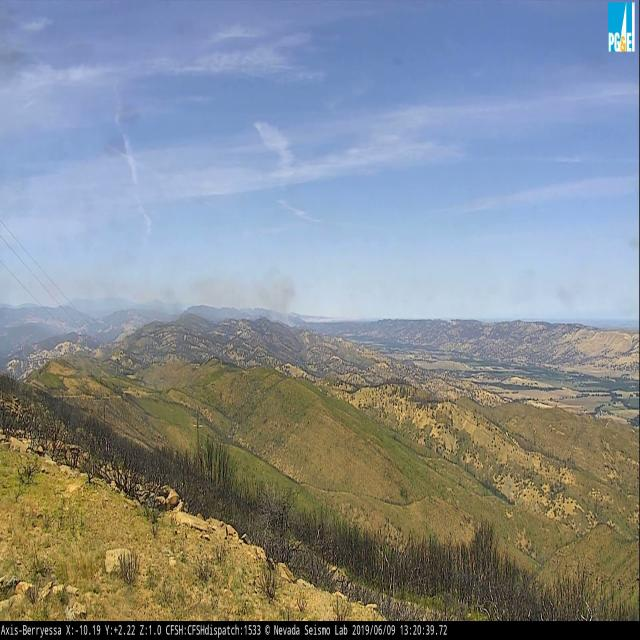smoke: (152, 272, 302, 332)
